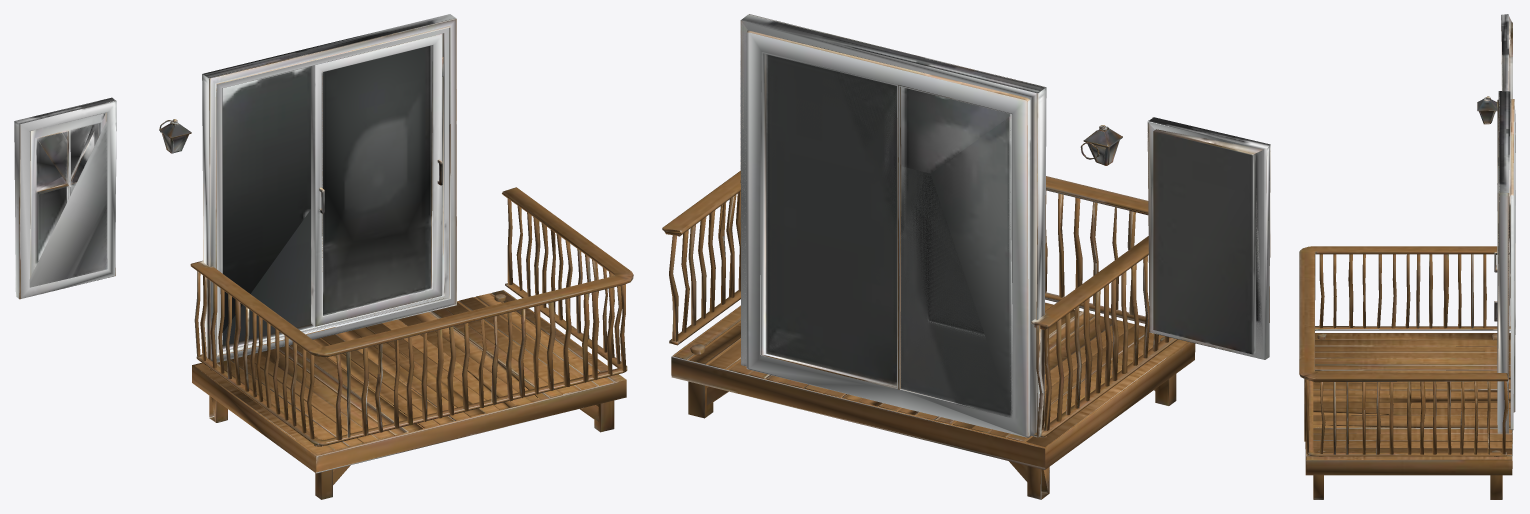
The model's file is house_wall.glb.
The picture shows the model from 3 angles, left to right: view 1: azimuth 30°, elevation 25°; view 2: azimuth 150°, elevation 25°; view 3: azimuth 270°, elevation 25°; orthographic projection. The views are drawn at different scales.
Size of the model in its own units: 0.9492 by 0.6177 by 0.4204.
1 material, 1 textured.
